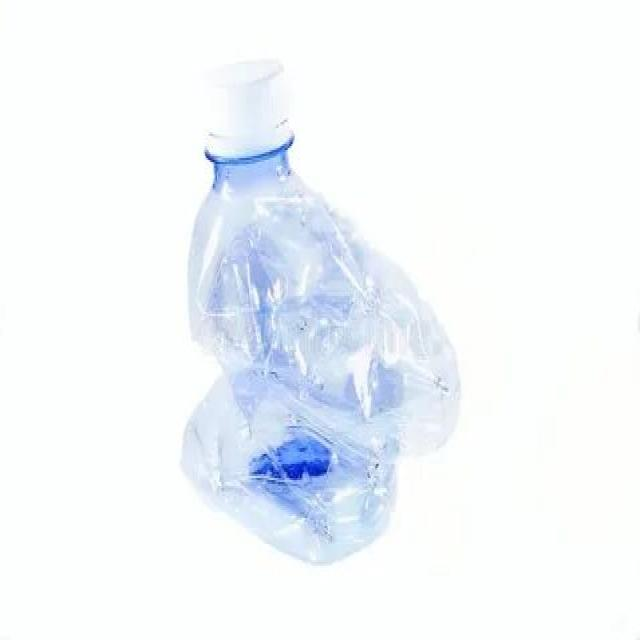blue: (183, 134, 461, 564)
